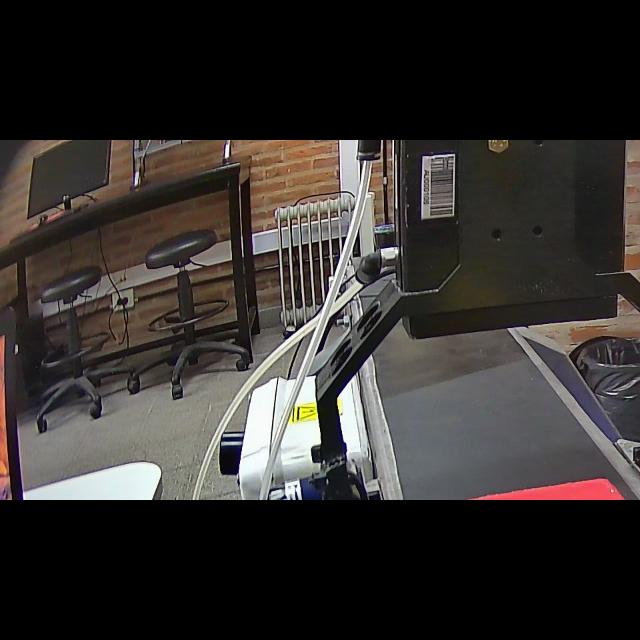redBox: (460, 472, 640, 500)
